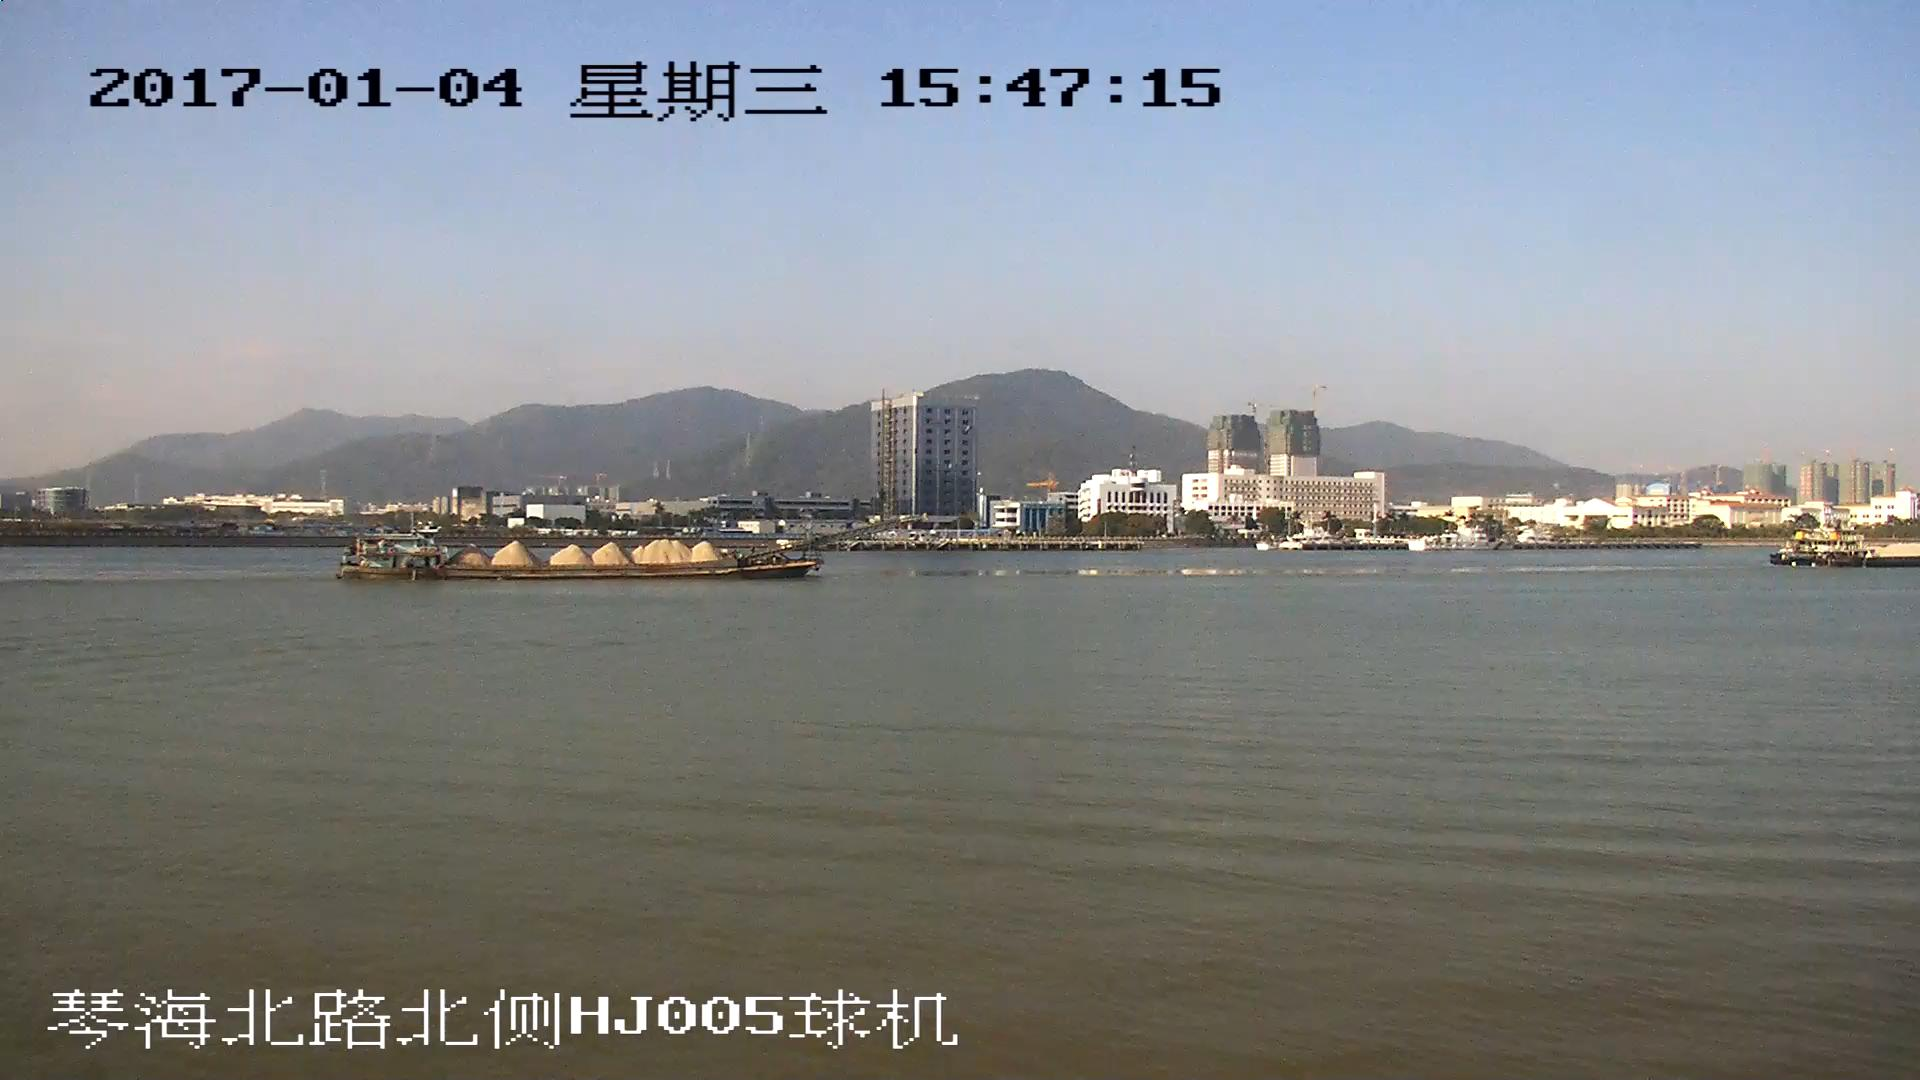ore carrier: (340, 513, 910, 585), (1778, 531, 1920, 573)
